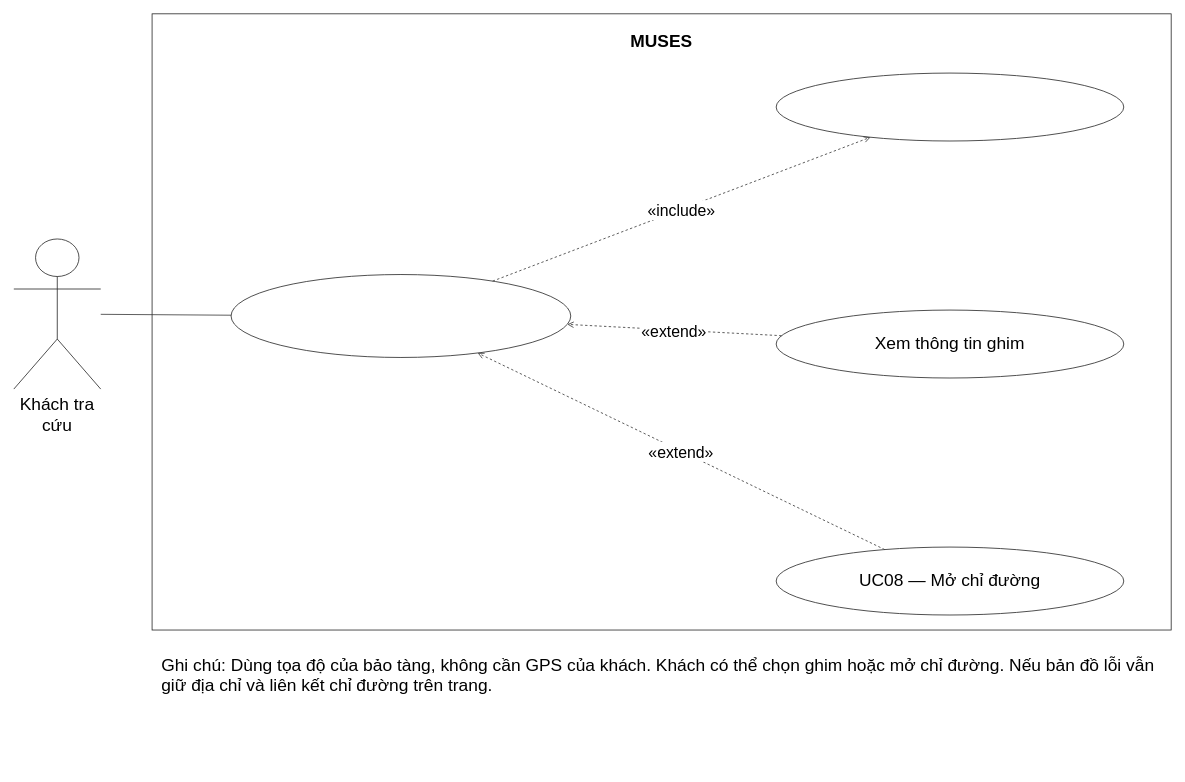
Image size: 1185x782. Some labels were removed from this diagram. Here are the shapes that lost their labels. From the top down, the centre of each, then its label:
At point (949, 106): "Hiển thị ghim bảo tàng".
At point (400, 315): "UC07 Xem bản đồ bảo tàng".
